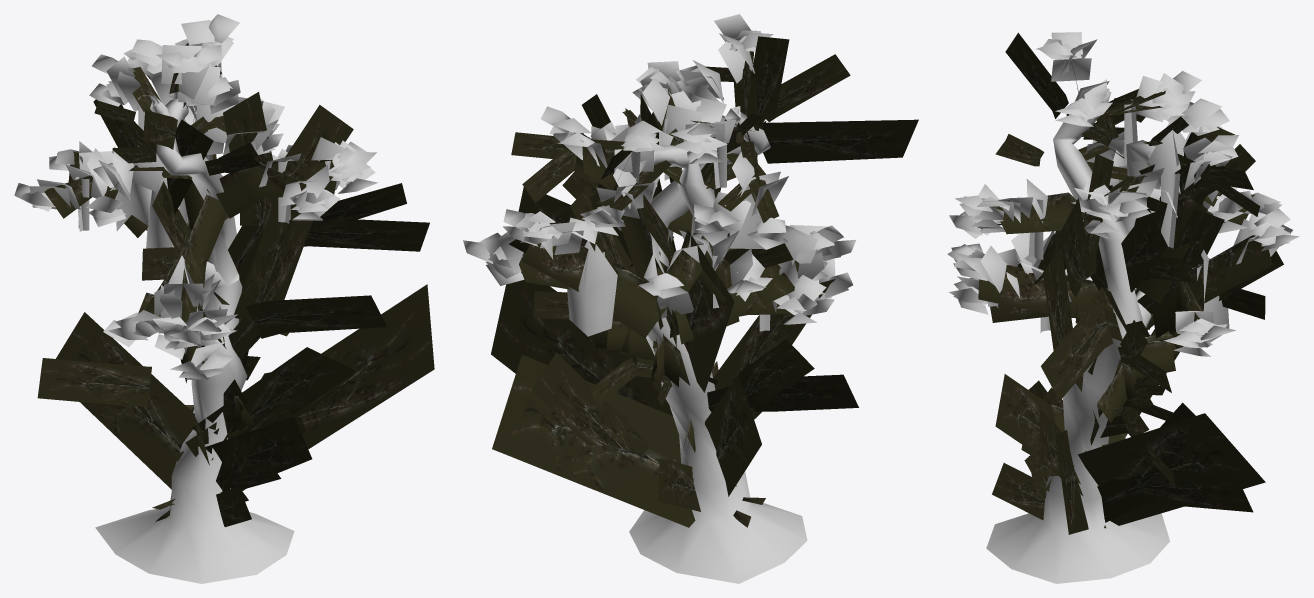
Rendered from tree10.FBX.
3 renders of one model, left to right at view 1: azimuth 30°, elevation 25°; view 2: azimuth 150°, elevation 25°; view 3: azimuth 270°, elevation 25°, orthographic. The views are drawn at different scales.
Visible parts, largest first — view 1: Tree10; view 2: Tree10; view 3: Tree10.
Part boxes in pixels (x1,y1,x2,y2): Tree10: (14,14,434,583); Tree10: (463,14,918,583); Tree10: (947,32,1298,583).
Size of the model in its own units: 259 by 321 by 205.
